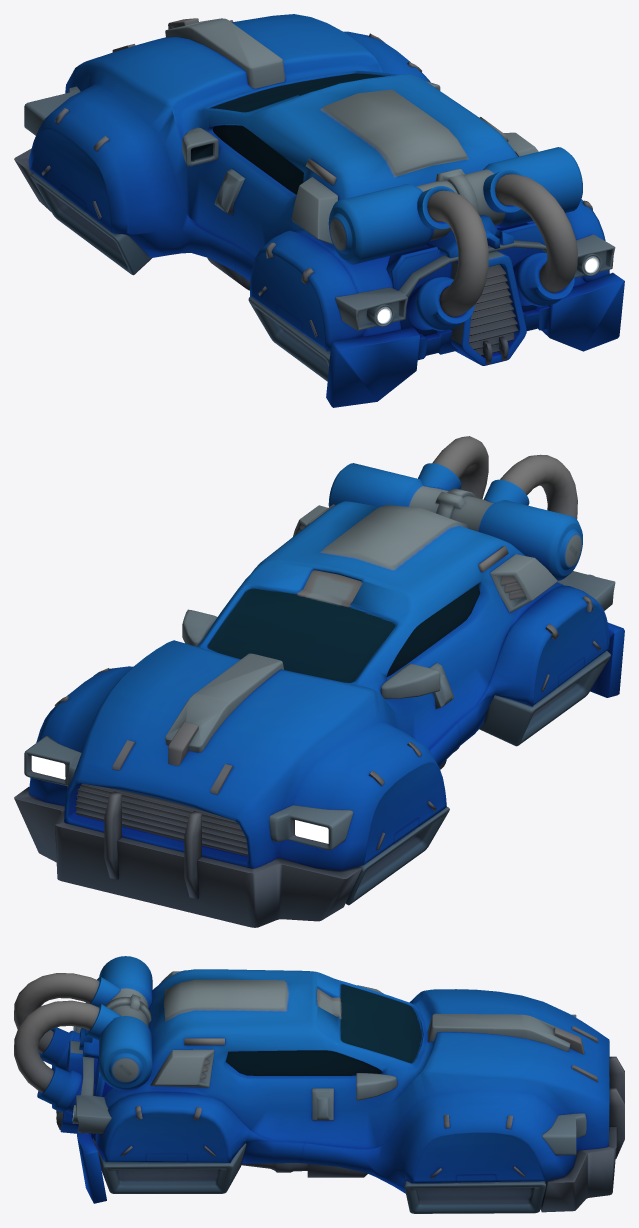
File: mesh_vehicleA.fbx
The picture shows the model from 3 angles, top to bottom: view 1: azimuth 30°, elevation 25°; view 2: azimuth 150°, elevation 25°; view 3: azimuth 270°, elevation 25°; orthographic projection. The views are drawn at different scales.
Parts seen in each view (by area): view 1: mesh_vehicleA; view 2: mesh_vehicleA; view 3: mesh_vehicleA.
Boxes of the visible parts, x1,y1,x2,y2 form: mesh_vehicleA: [14, 14, 624, 407]; mesh_vehicleA: [14, 436, 624, 927]; mesh_vehicleA: [14, 956, 624, 1213].
Bounding box in the file's own units: 97.62 × 57.41 × 189.
